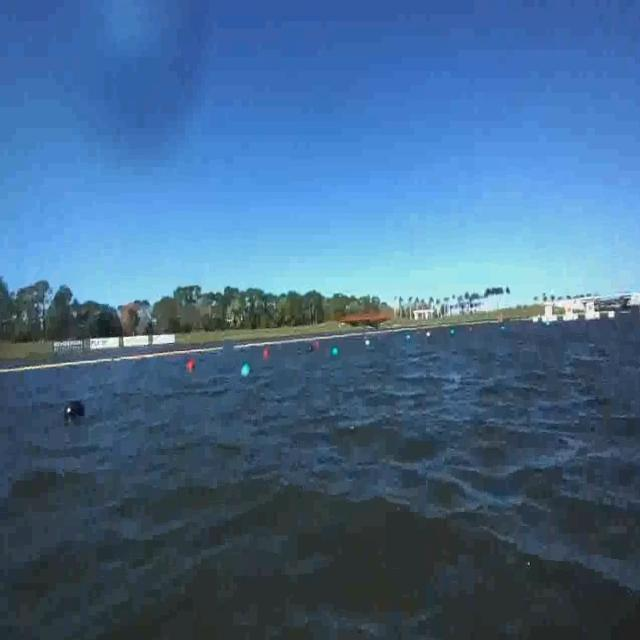black-buoy: (65, 402, 85, 421)
green-buoy: (332, 340, 344, 364), (240, 361, 250, 377)
red-buoy: (185, 358, 199, 378), (261, 346, 274, 364)
